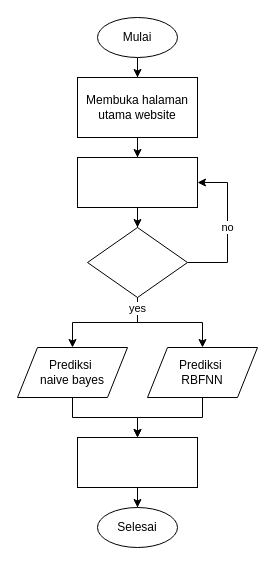
The diagram is 275 pixels wide and 565 high, and some of its shapes have lost their labels. The shapes that lost their labels are listed below. From the top down, each one's centre as x and y in pixels, then its label:
At [137,182]: "Mengisi form input".
At [137,262]: "Validasi input data".
At [137,462]: "Tampilkan hasil prediksi".
